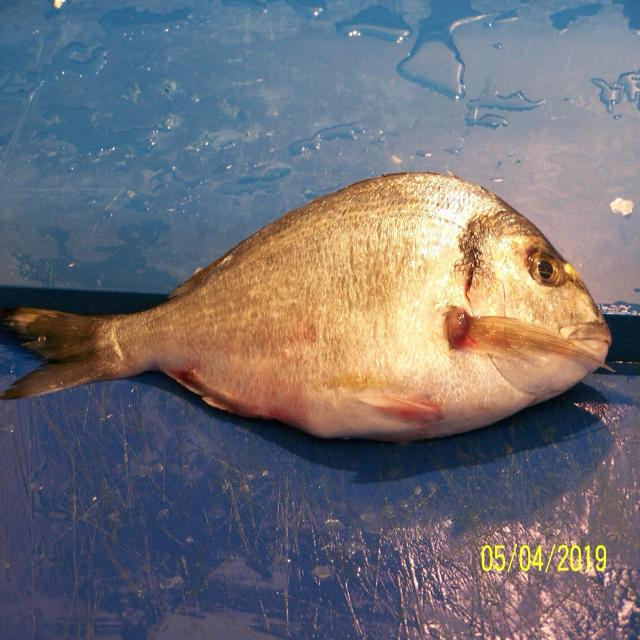Gilt-Head-Bream-c-ipura-: (0, 173, 614, 447)
